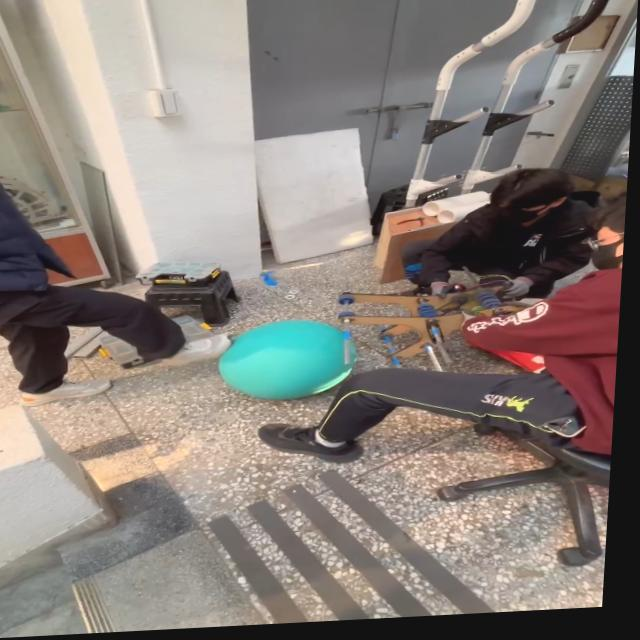ALGAE: (214, 316, 361, 404)
